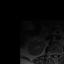CCS_normal: (54, 49, 56, 59)
LFS_normal: (59, 50, 61, 56)
LLS_normal: (56, 49, 59, 57)
RFS_normal: (50, 50, 52, 57)
RLS_normal: (52, 50, 54, 57)
